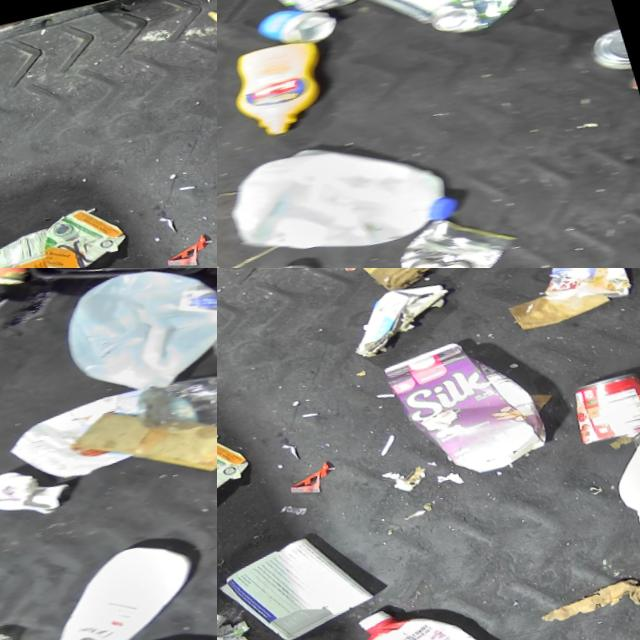can: (378, 202, 524, 268), (550, 362, 640, 453), (247, 0, 342, 57), (415, 0, 530, 42), (580, 28, 629, 79), (259, 0, 366, 23), (613, 61, 640, 115), (0, 268, 32, 294)
milk_jug: (217, 119, 463, 268), (40, 268, 217, 406), (583, 394, 640, 540)
plastic_bottle: (121, 354, 217, 443)
